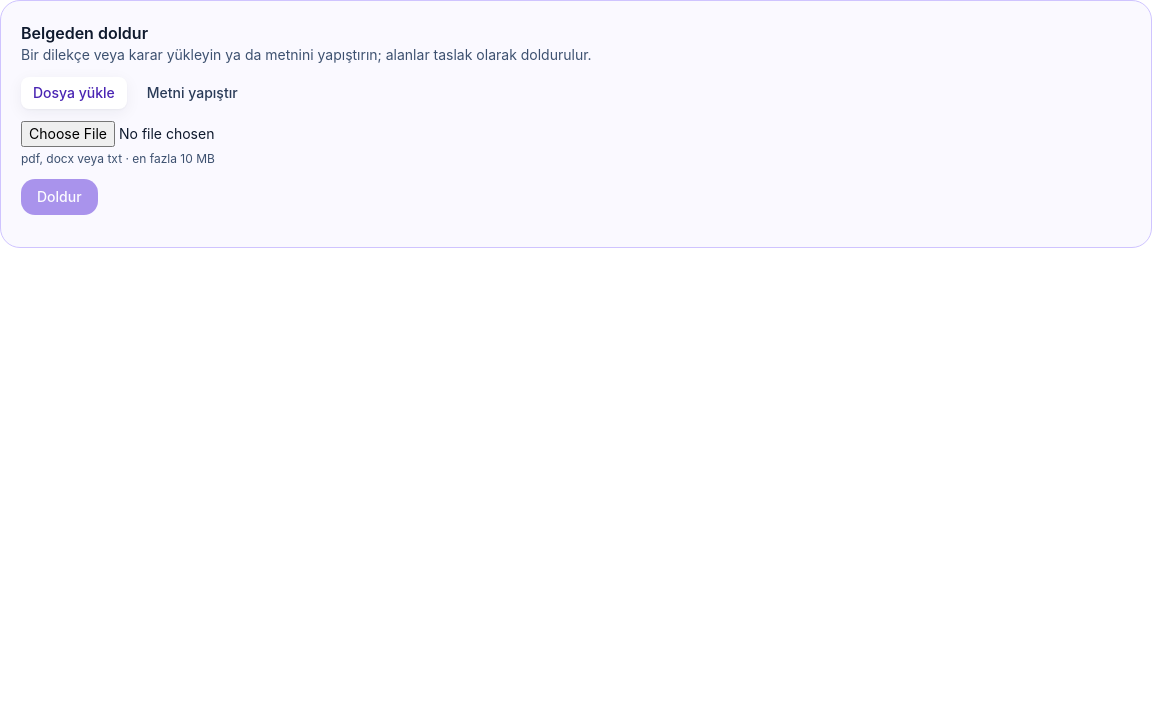
Test: IntakeFillBox › keeps the form untouched when the overwrite is declined
Click the tab "Metni yapıştır".
click(192, 93)  # box [135,77,250,109]
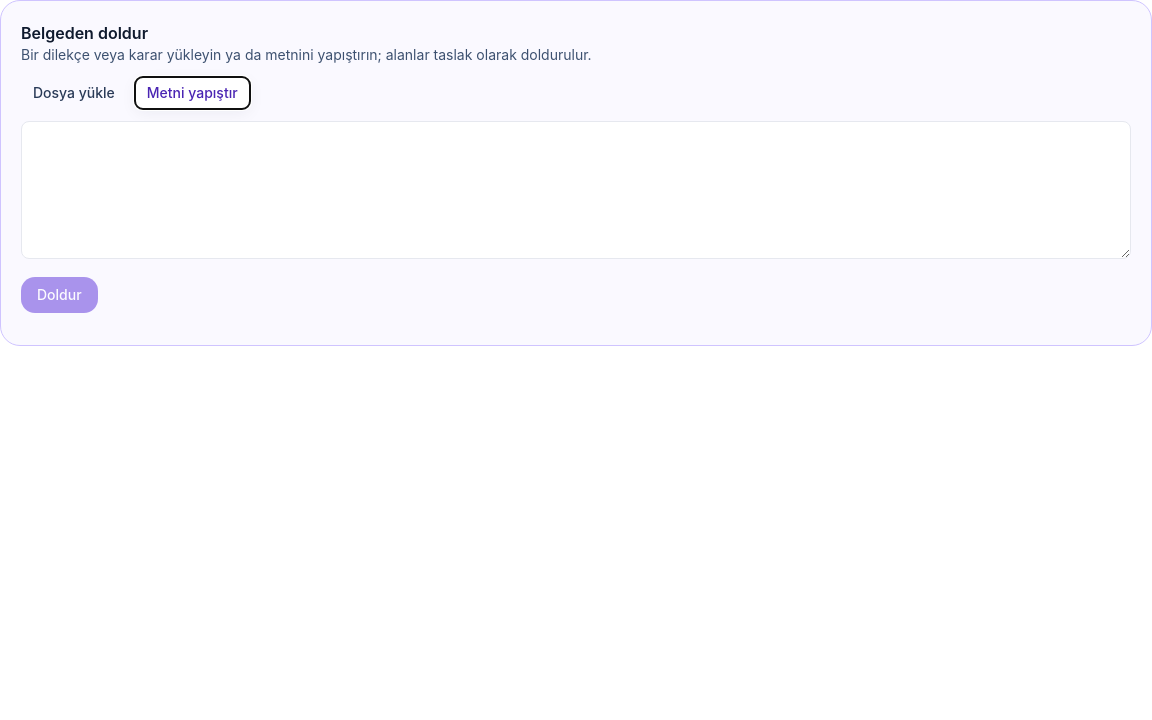
Type "Davacı vekili dilekçesi" into the text box named "Belge metni".
click(576, 190); type("Davacı vekili dilekçesi")  # box [21,121,1131,259]
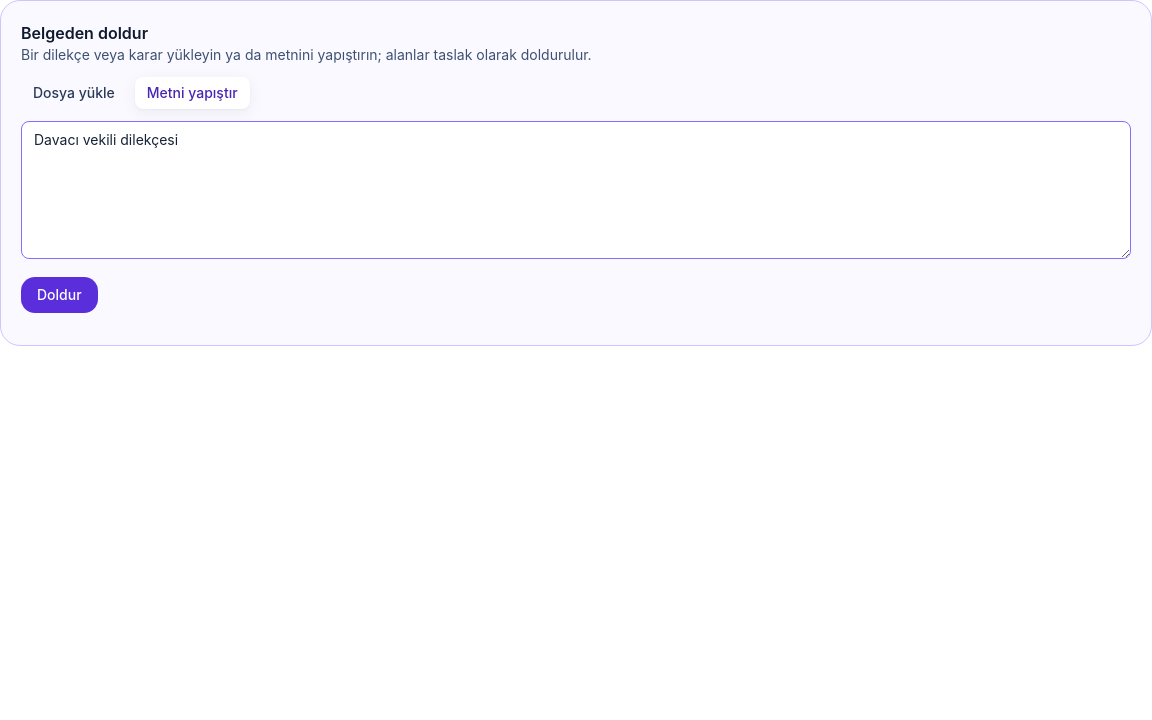
Click the button "Doldur".
click(59, 295)  # box [21,277,98,313]
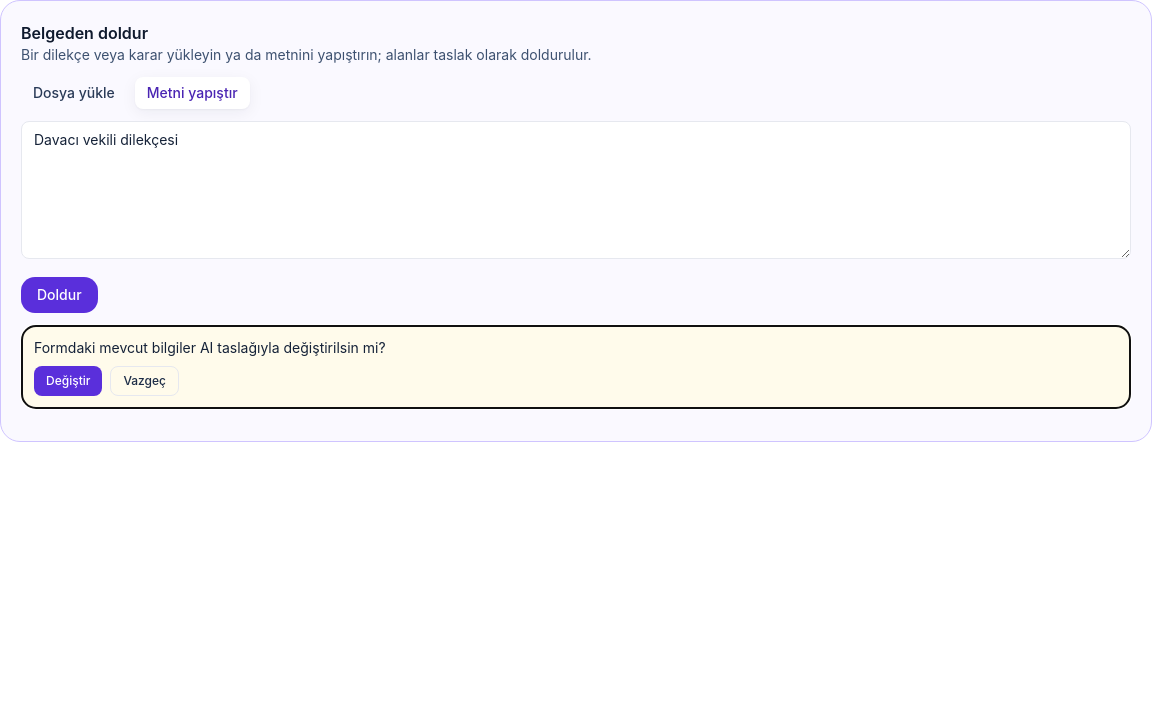
Click the button "Vazgeç".
click(145, 381)  # box [110,366,179,396]
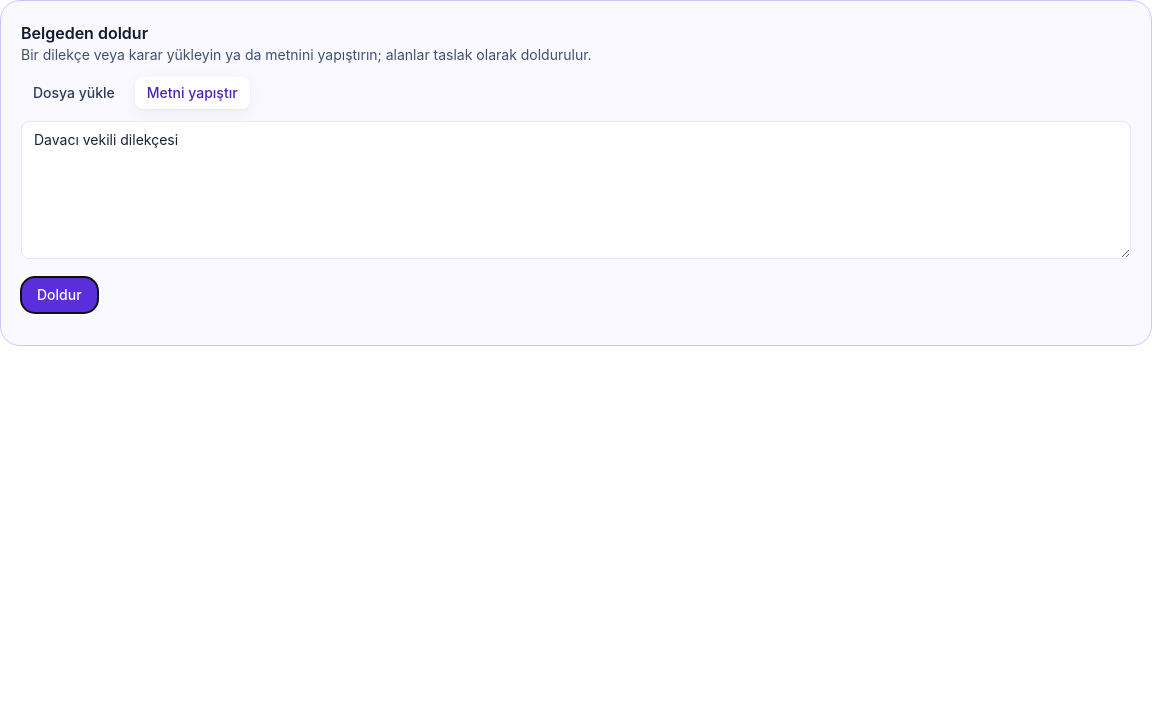
Expected: the text "Formdaki mevcut bilgiler AI taslağıyla değiştirilsin mi?" is gone
